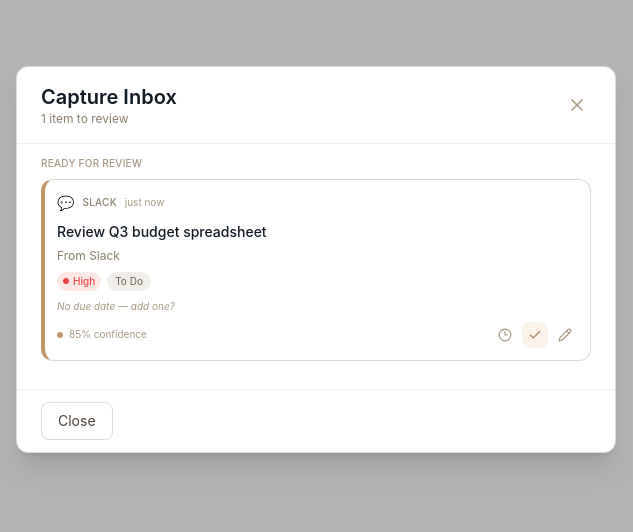
Scenario: CaptureInbox › expands inline editor when edit button is clicked
What coordinates should you click on to do the following:
click the button named "Edit card"
I would click on:
 (565, 334)
Its box is 552,322 -> 578,348.
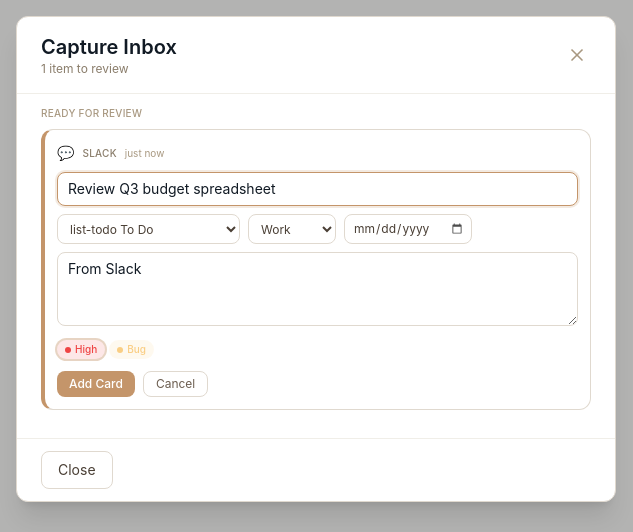
expect the button "Add Card" is shown: met, box 57,371 -> 135,397
expect the button "Cancel" is shown: met, box 143,371 -> 208,397
